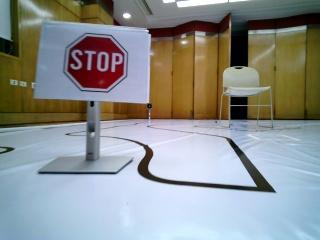stop: (53, 27, 138, 94)
